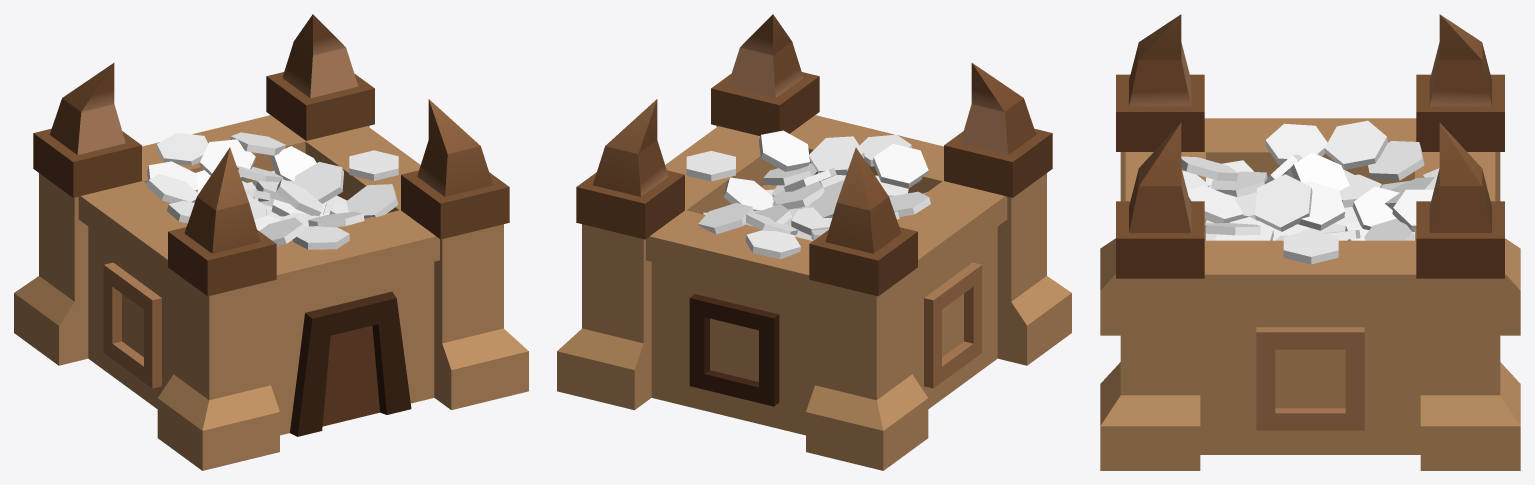
The model's file is Building_GoldMine_Lv1.fbx.
3 renders of one model, left to right at view 1: azimuth 30°, elevation 25°; view 2: azimuth 150°, elevation 25°; view 3: azimuth 270°, elevation 25°, orthographic. The views are drawn at different scales.
Parts seen in each view (by area): view 1: Building_GoldMine_Lv1, gold_3; view 2: Building_GoldMine_Lv1, gold_3; view 3: Building_GoldMine_Lv1, gold_3, gold_2.
Part boxes in pixels (left/top/right/bottom): Building_GoldMine_Lv1: left=14, top=14, right=528, bottom=470; gold_3: left=146, top=132, right=398, bottom=249; Building_GoldMine_Lv1: left=557, top=14, right=1071, bottom=470; gold_3: left=686, top=130, right=930, bottom=259; Building_GoldMine_Lv1: left=1100, top=14, right=1520, bottom=470; gold_3: left=1181, top=120, right=1439, bottom=264; gold_2: left=1258, top=207, right=1368, bottom=240.
Bounding box in the file's own units: 0.7178 × 0.5918 × 0.7179.
